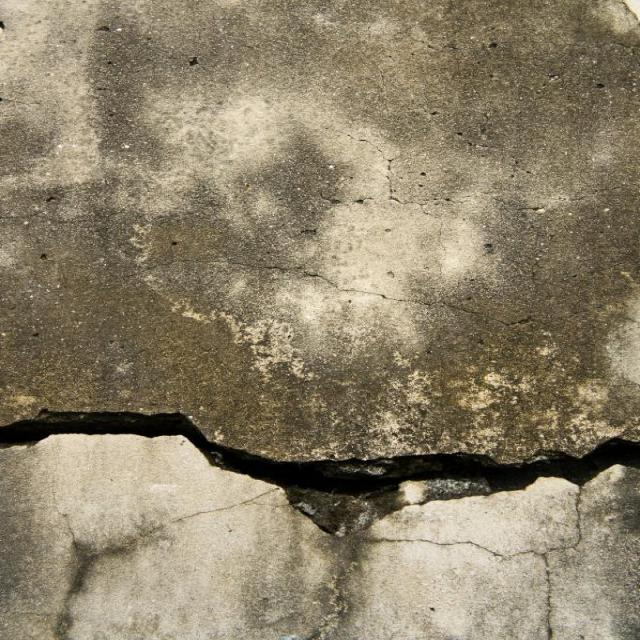Crack: (0, 409, 639, 545), (121, 256, 556, 328), (192, 58, 392, 195), (285, 497, 547, 557), (80, 488, 277, 558), (389, 181, 639, 214), (540, 484, 588, 553), (542, 545, 554, 634)
